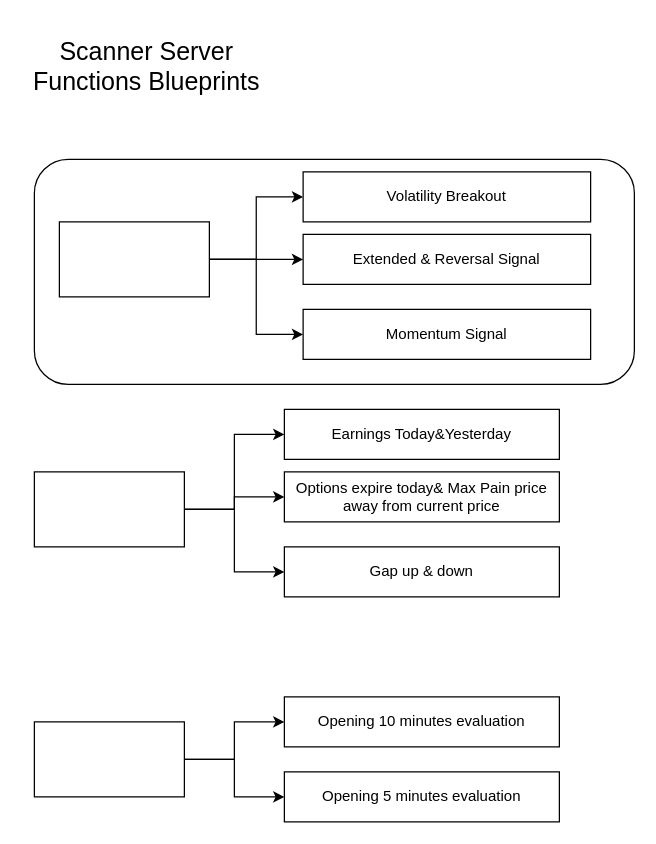
The diagram is 656 pixels wide and 844 high, and some of its shapes have lost their labels. Each missing label, with the centre of its shape:
"Continuous Alerts" belongs at point 133,259.
"Pre-Market Alerts" belongs at point 108,509.
"Timing Alerts" belongs at point 108,759.
